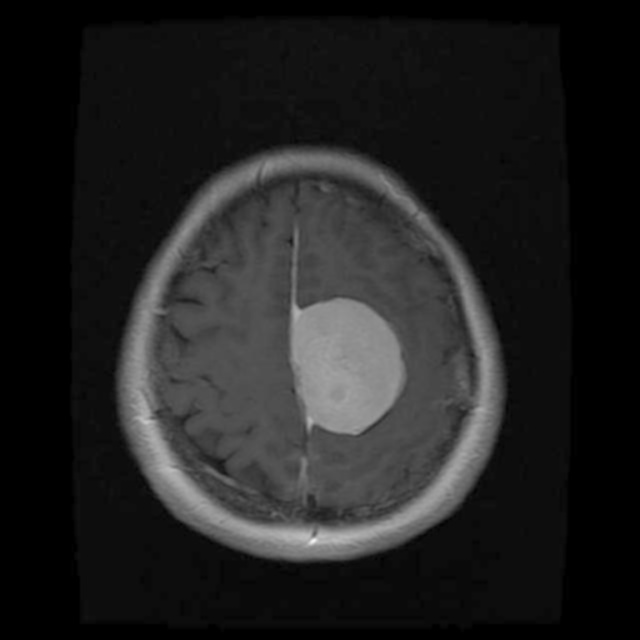meningioma tumor: (280, 285, 421, 446)
